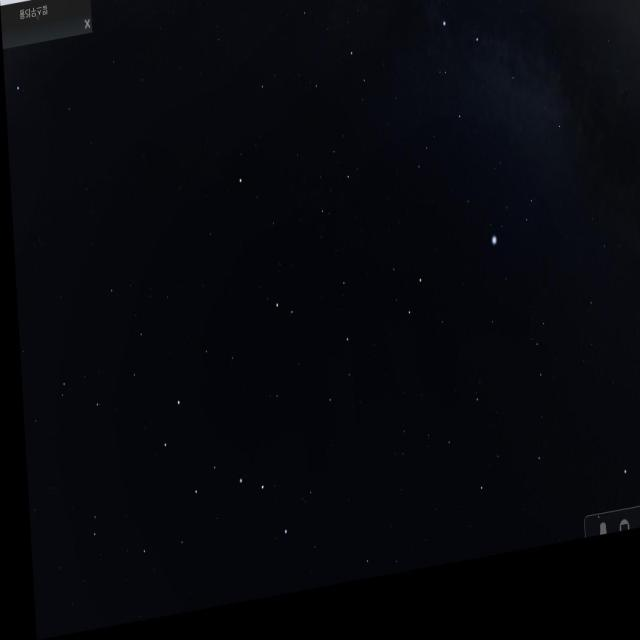cygnus: (426, 0, 566, 175)
lyra: (482, 194, 540, 272)
ursa_major: (151, 377, 297, 574)
